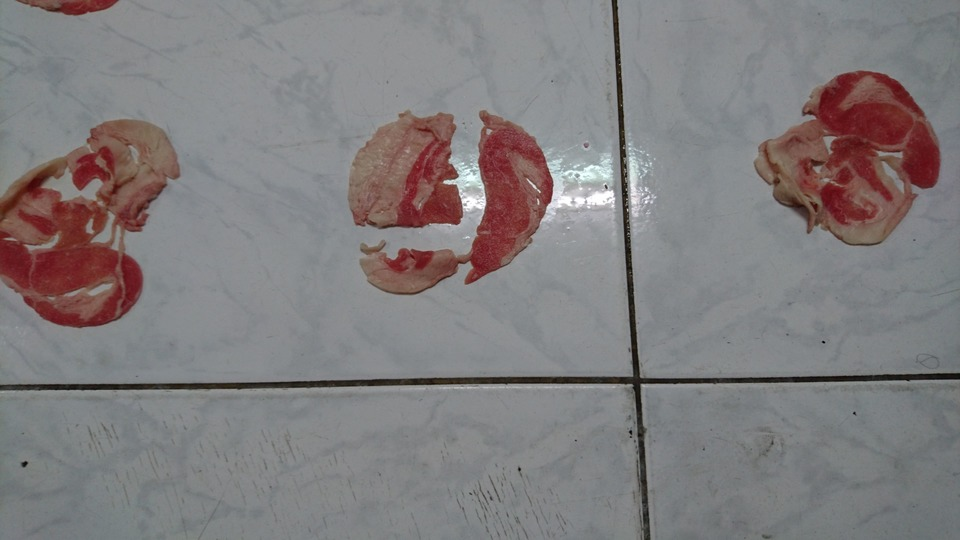restructured meat: (342, 105, 560, 297), (1, 116, 183, 331), (748, 69, 946, 247)
